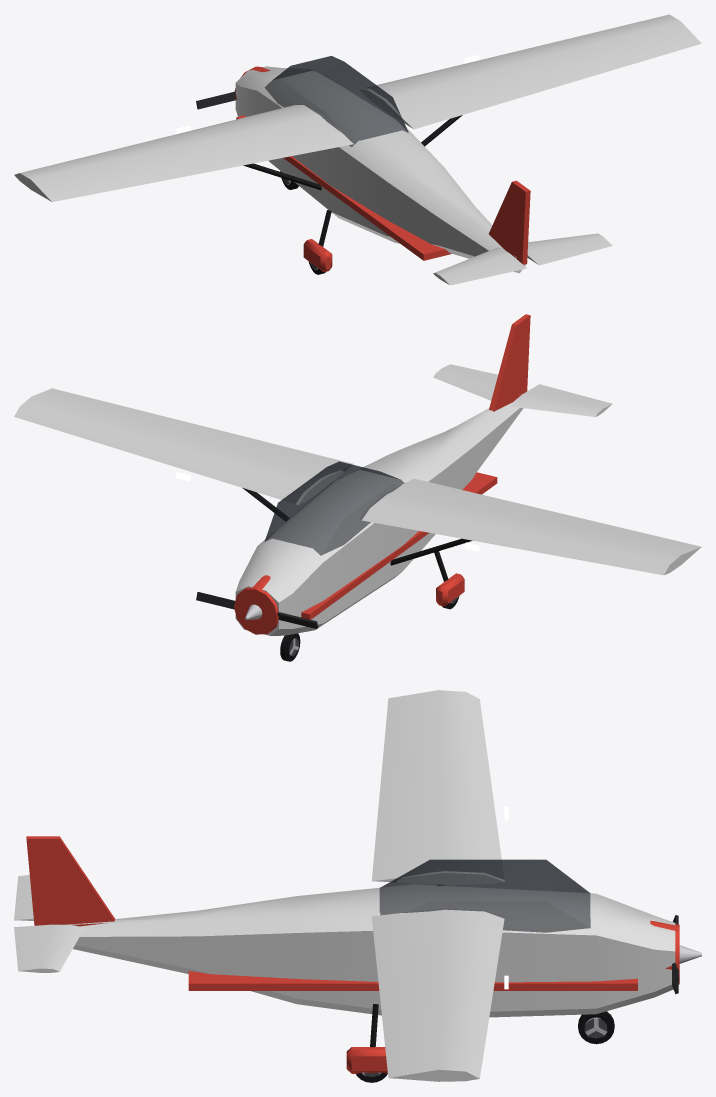
The picture shows the model from 3 angles, top to bottom: view 1: azimuth 30°, elevation 25°; view 2: azimuth 150°, elevation 25°; view 3: azimuth 270°, elevation 25°; orthographic projection. The views are drawn at different scales.
Parts seen in each view (by area): view 1: Body.018; view 2: Body.018, Prop.001; view 3: Body.018, Wheel_G0.
Part boxes in pixels (x1=…): Body.018: x1=14, y1=14, x2=701, y2=285; Body.018: x1=14, y1=314, x2=701, y2=635; Prop.001: x1=196, y1=592, x2=318, y2=628; Body.018: x1=14, y1=690, x2=679, y2=1081; Wheel_G0: x1=578, y1=1011, x2=614, y2=1044.
Size of the model in its own units: 10.8 by 2.72 by 8.27.
